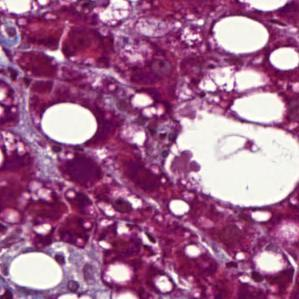ballooning: (162, 62, 297, 211)
